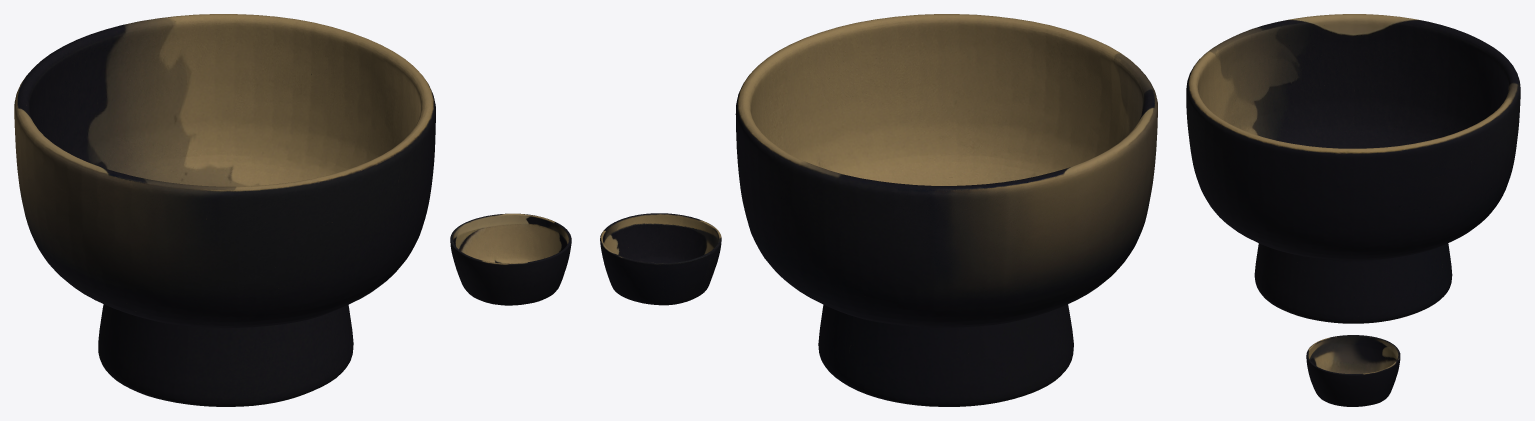
The picture shows the model from 3 angles, left to right: view 1: azimuth 30°, elevation 25°; view 2: azimuth 150°, elevation 25°; view 3: azimuth 270°, elevation 25°; orthographic projection. The views are drawn at different scales.
Size of the model in its own units: 1.9 by 0.8958 by 1.35.
Materials: 1 (1 with a texture image).
